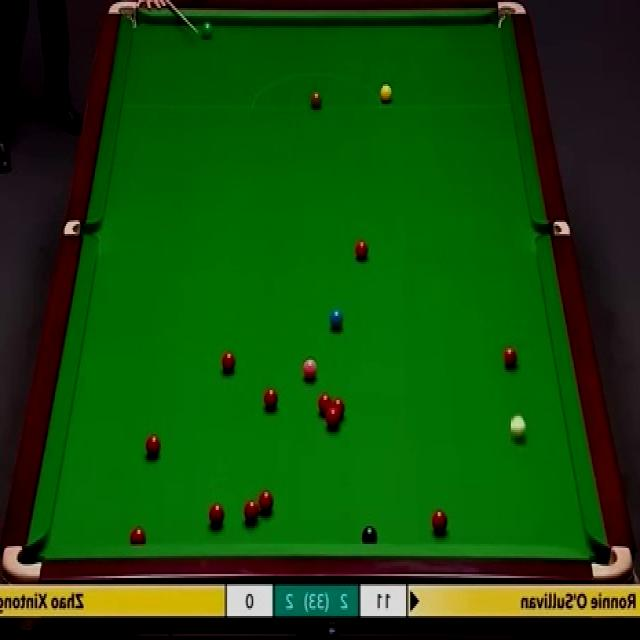black-ball: (360, 523, 378, 545)
blue-ball: (329, 307, 345, 332)
brown-ball: (310, 88, 324, 111)
green-ball: (200, 21, 215, 40)
pink-ball: (302, 354, 317, 382)
red-ball: (242, 495, 260, 526), (220, 349, 237, 378), (502, 344, 519, 371), (209, 503, 226, 529), (145, 434, 162, 459), (258, 489, 274, 515), (264, 387, 279, 412), (432, 508, 446, 534), (354, 239, 369, 262), (318, 394, 332, 418), (130, 526, 146, 546), (326, 410, 339, 430), (332, 398, 345, 418)
white-ball: (510, 411, 528, 442)
yellow-ball: (380, 83, 394, 103)
